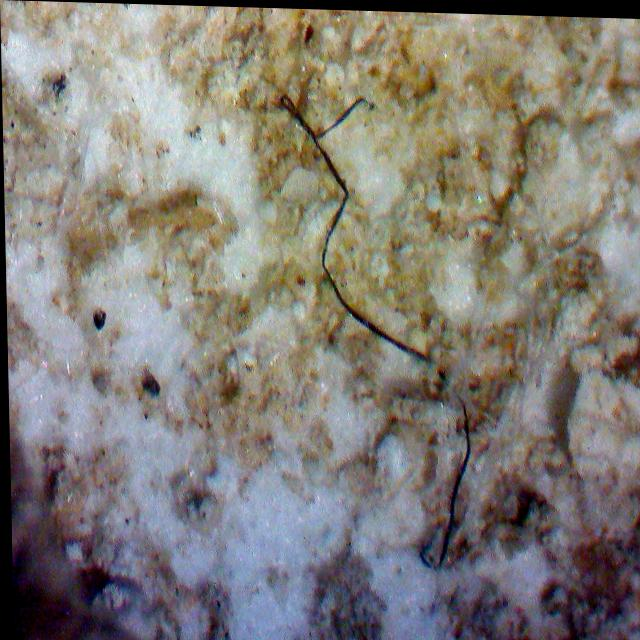microplastic: (269, 69, 508, 571)
